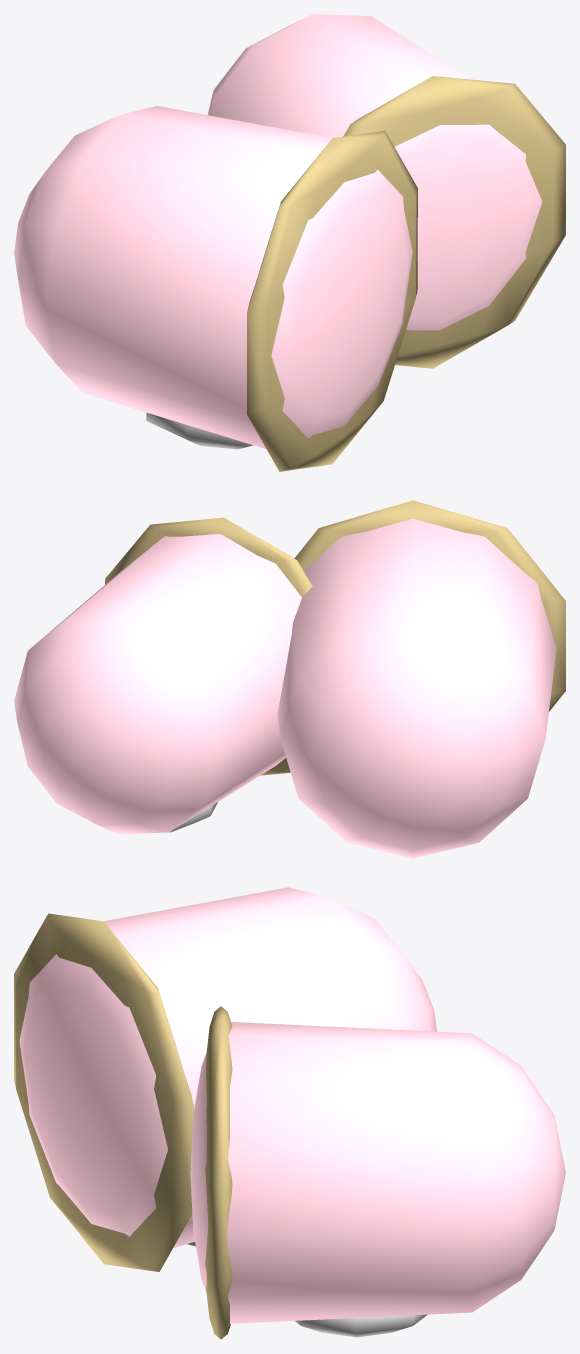
File: cafe-tips.glb
3 renders of one model, top to bottom at view 1: azimuth 30°, elevation 25°; view 2: azimuth 150°, elevation 25°; view 3: azimuth 270°, elevation 25°, orthographic. The views are drawn at different scales.
Parts seen in each view (by area): view 1: thumb-tip, index-finger-tip; view 2: thumb-tip, index-finger-tip; view 3: index-finger-tip, thumb-tip.
Boxes of the visible parts, x1,y1,x2,y2 form: thumb-tip: [14, 106, 417, 471]; index-finger-tip: [207, 14, 565, 368]; thumb-tip: [277, 500, 565, 858]; index-finger-tip: [14, 517, 312, 834]; index-finger-tip: [190, 1006, 565, 1339]; thumb-tip: [14, 887, 436, 1271].
Bounding box in the file's own units: 0.043 × 0.0264 × 0.0386.
